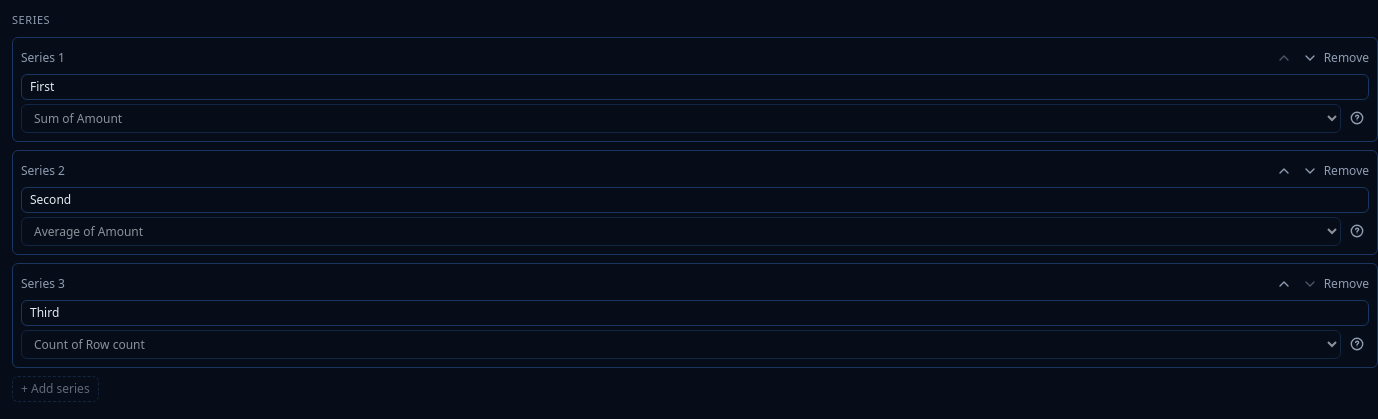
MeasuresEditor reorder (TBD-431) › fence reorder-focus-follows-moved-item: DOWN keeps focus on the down button
Click the button with test id "measure-move-down-0".
click(1310, 58)  # box [1298,46,1322,70]
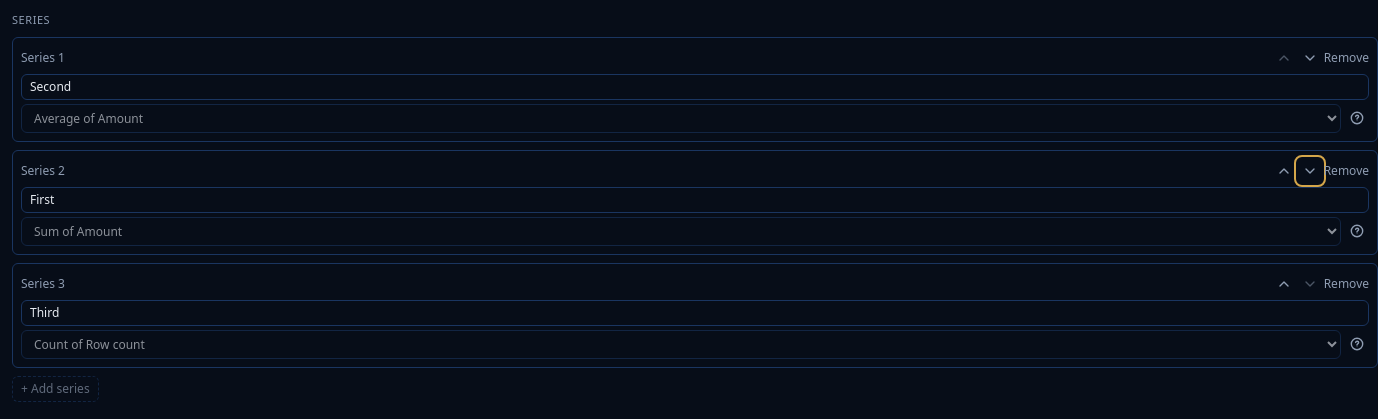
Expected: the field named "Series 2 label" holds "First", [21,186,1369,212]
